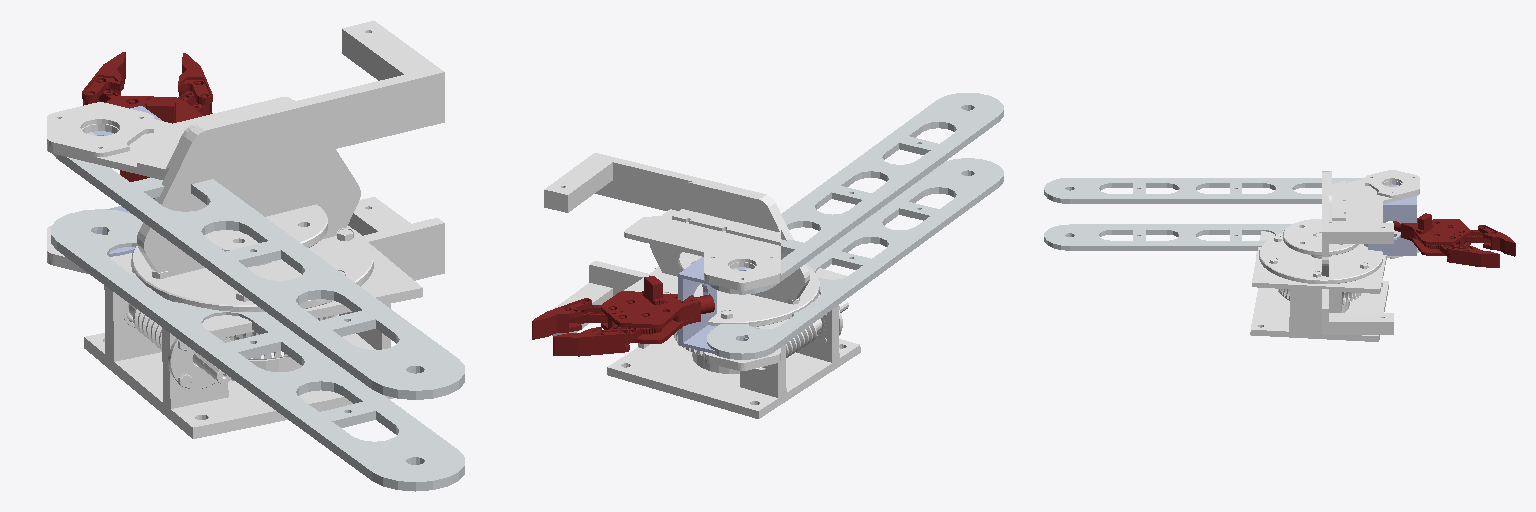
The robot description file, URDF, robot "z":
<?xml version="1.0" encoding="utf-8"?>
<!-- This URDF was automatically created by SolidWorks to URDF Exporter! Originally created by [author] ([email redacted]) 
     Commit Version: 1.6.0-4-g7f85cfe  Build Version: 1.6.7995.38578
     For more information, please see http://wiki.ros.org/sw_urdf_exporter -->
<robot
  name="z">
  <link
    name="baselink">
    <inertial>
      <origin
        xyz="0.136727936913072 0.163649836381301 0.190786507064757"
        rpy="0 0 0" />
      <mass
        value="1.73988992647191" />
      <inertia
        ixx="0.00476996445378195"
        ixy="6.74938643877778E-06"
        ixz="-9.01366903140054E-05"
        iyy="0.0080616264752367"
        iyz="-5.13396268658168E-05"
        izz="0.00545225217203028" />
    </inertial>
    <visual>
      <origin
        xyz="0 0 0"
        rpy="0 0 0" />
      <geometry>
        <mesh
          filename="package://z/meshes/baselink.STL" />
      </geometry>
      <material
        name="">
        <color
          rgba="0.96078431372549 0.96078431372549 0.964705882352941 1" />
      </material>
    </visual>
    <collision>
      <origin
        xyz="0 0 0"
        rpy="0 0 0" />
      <geometry>
        <mesh
          filename="package://z/meshes/baselink.STL" />
      </geometry>
    </collision>
  </link>
  <link
    name="1">
    <inertial>
      <origin
        xyz="0.0309643572031095 0.0354710496285496 5.84977910139672E-05"
        rpy="0 0 0" />
      <mass
        value="0.887320906853074" />
      <inertia
        ixx="0.0027544697547758"
        ixy="-0.000542280838759937"
        ixz="5.964159452119E-07"
        iyy="0.00653569254499971"
        iyz="6.6389506137881E-08"
        izz="0.00521445541755307" />
    </inertial>
    <visual>
      <origin
        xyz="0 0 0"
        rpy="0 0 0" />
      <geometry>
        <mesh
          filename="package://z/meshes/1.STL" />
      </geometry>
      <material
        name="">
        <color
          rgba="0.96078431372549 0.96078431372549 0.964705882352941 1" />
      </material>
    </visual>
    <collision>
      <origin
        xyz="0 0 0"
        rpy="0 0 0" />
      <geometry>
        <mesh
          filename="package://z/meshes/1.STL" />
      </geometry>
    </collision>
  </link>
  <joint
    name="BasePlate"
    type="continuous">
    <origin
      xyz="0.14154 -0.18886 0.23989"
      rpy="0 0 0" />
    <parent
      link="baselink" />
    <child
      link="1" />
    <axis
      xyz="0 0 0" />
  </joint>
  <link
    name="2">
    <inertial>
      <origin
        xyz="-5.82867087928207E-16 -0.25259101413583 -1.83186799063151E-15"
        rpy="0 0 0" />
      <mass
        value="0.713576578661904" />
      <inertia
        ixx="0.0211358893848965"
        ixy="-2.07489190759413E-17"
        ixz="5.42101086242752E-19"
        iyy="0.000474463194329393"
        iyz="-2.67594648696579E-17"
        izz="0.0216084497083494" />
    </inertial>
    <visual>
      <origin
        xyz="0 0 0"
        rpy="0 0 0" />
      <geometry>
        <mesh
          filename="package://z/meshes/2.STL" />
      </geometry>
      <material
        name="">
        <color
          rgba="0.898039215686275 0.917647058823529 0.929411764705882 1" />
      </material>
    </visual>
    <collision>
      <origin
        xyz="0 0 0"
        rpy="0 0 0" />
      <geometry>
        <mesh
          filename="package://z/meshes/2.STL" />
      </geometry>
    </collision>
  </link>
  <joint
    name="RoboArm1"
    type="continuous">
    <origin
      xyz="-0.075914 0.10968 0"
      rpy="0 0 0" />
    <parent
      link="1" />
    <child
      link="2" />
    <axis
      xyz="0 0 1" />
  </joint>
  <link
    name="3">
    <inertial>
      <origin
        xyz="-1.22124532708767E-15 0.247408985864164 -1.69309011255336E-15"
        rpy="0 0 0" />
      <mass
        value="0.713576578661904" />
      <inertia
        ixx="0.0211358893848965"
        ixy="3.12385750947386E-17"
        ixz="-5.14996031930615E-19"
        iyy="0.000474463194329394"
        iyz="-1.89396567006062E-18"
        izz="0.0216084497083494" />
    </inertial>
    <visual>
      <origin
        xyz="0 0 0"
        rpy="0 0 0" />
      <geometry>
        <mesh
          filename="package://z/meshes/3.STL" />
      </geometry>
      <material
        name="">
        <color
          rgba="0.898039215686275 0.917647058823529 0.929411764705882 1" />
      </material>
    </visual>
    <collision>
      <origin
        xyz="0 0 0"
        rpy="0 0 0" />
      <geometry>
        <mesh
          filename="package://z/meshes/3.STL" />
      </geometry>
    </collision>
  </link>
  <joint
    name="RoboArm2"
    type="continuous">
    <origin
      xyz="0 -0.5 0"
      rpy="0 0 0" />
    <parent
      link="2" />
    <child
      link="3" />
    <axis
      xyz="0 0 0" />
  </joint>
  <link
    name="4">
    <inertial>
      <origin
        xyz="0.0304026812805968 -2.22044604925031E-16 0.00038500000000069"
        rpy="0 0 0" />
      <mass
        value="0.0838934808116942" />
      <inertia
        ixx="0.000151816413673121"
        ixy="2.57498015965307E-19"
        ixz="3.2102548700938E-19"
        iyy="0.000183268023889147"
        iyz="-1.72582963003064E-19"
        izz="0.000113624126912613" />
    </inertial>
    <visual>
      <origin
        xyz="0 0 0"
        rpy="0 0 0" />
      <geometry>
        <mesh
          filename="package://z/meshes/4.STL" />
      </geometry>
      <material
        name="">
        <color
          rgba="0.792156862745098 0.819607843137255 0.933333333333333 1" />
      </material>
    </visual>
    <collision>
      <origin
        xyz="0 0 0"
        rpy="0 0 0" />
      <geometry>
        <mesh
          filename="package://z/meshes/4.STL" />
      </geometry>
    </collision>
  </link>
  <joint
    name="Holder"
    type="continuous">
    <origin
      xyz="0 0.5 0"
      rpy="0 0 0" />
    <parent
      link="3" />
    <child
      link="4" />
    <axis
      xyz="0 0 0" />
  </joint>
  <link
    name="5">
    <inertial>
      <origin
        xyz="0.0815935795033388 0.121674596903559 0.00060174226929377"
        rpy="0 0 0" />
      <mass
        value="0.422769262240391" />
      <inertia
        ixx="0.000137578127893015"
        ixy="-4.85145744427395E-05"
        ixz="7.62704234755628E-08"
        iyy="9.84688868341524E-05"
        iyz="-4.22990670986079E-08"
        izz="0.000206347676360399" />
    </inertial>
    <visual>
      <origin
        xyz="0 0 0"
        rpy="0 0 0" />
      <geometry>
        <mesh
          filename="package://z/meshes/5.STL" />
      </geometry>
      <material
        name="">
        <color
          rgba="0.549019607843137 0.180392156862745 0.180392156862745 1" />
      </material>
    </visual>
    <collision>
      <origin
        xyz="0 0 0"
        rpy="0 0 0" />
      <geometry>
        <mesh
          filename="package://z/meshes/5.STL" />
      </geometry>
    </collision>
  </link>
  <joint
    name="Gripper"
    type="continuous">
    <origin
      xyz="0.03346 0 0.000385"
      rpy="0 0 0" />
    <parent
      link="4" />
    <child
      link="5" />
    <axis
      xyz="0 0 0" />
  </joint>
</robot>

--- Facts derived from the render (not from the file) ---
The picture shows the robot from 3 angles, left to right: view 1: azimuth 30°, elevation 25°; view 2: azimuth 150°, elevation 25°; view 3: azimuth 270°, elevation 25°; orthographic projection.
Model z with 6 links and 5 joints (5 continuous), rooted at baselink, posed every joint at zero.
Links seen in each view (by area): view 1: 1, baselink, 3, 2, 5; view 2: 1, baselink, 3, 2, 5, 4; view 3: baselink, 1, 2, 3, 5, 4.
Link boxes in pixels (bbox=[...]): 1: bbox=[47, 21, 444, 280]; baselink: bbox=[84, 204, 422, 438]; 3: bbox=[51, 153, 464, 486]; 2: bbox=[51, 132, 464, 491]; 5: bbox=[82, 52, 212, 181]; 1: bbox=[544, 153, 809, 370]; baselink: bbox=[607, 252, 860, 418]; 3: bbox=[707, 108, 1003, 356]; 2: bbox=[715, 93, 1003, 359]; 5: bbox=[532, 276, 714, 356]; 4: bbox=[678, 257, 759, 354]; baselink: bbox=[1250, 219, 1388, 341]; 1: bbox=[1322, 170, 1419, 334]; 2: bbox=[1044, 178, 1397, 250]; 3: bbox=[1044, 185, 1400, 248]; 5: bbox=[1393, 213, 1515, 267]; 4: bbox=[1368, 184, 1416, 255].
Size in the robot's own frame: 0.2997 by 0.7303 by 0.2212 metres.
6 mesh visuals loaded from 6 distinct referenced files (6 binary STL).